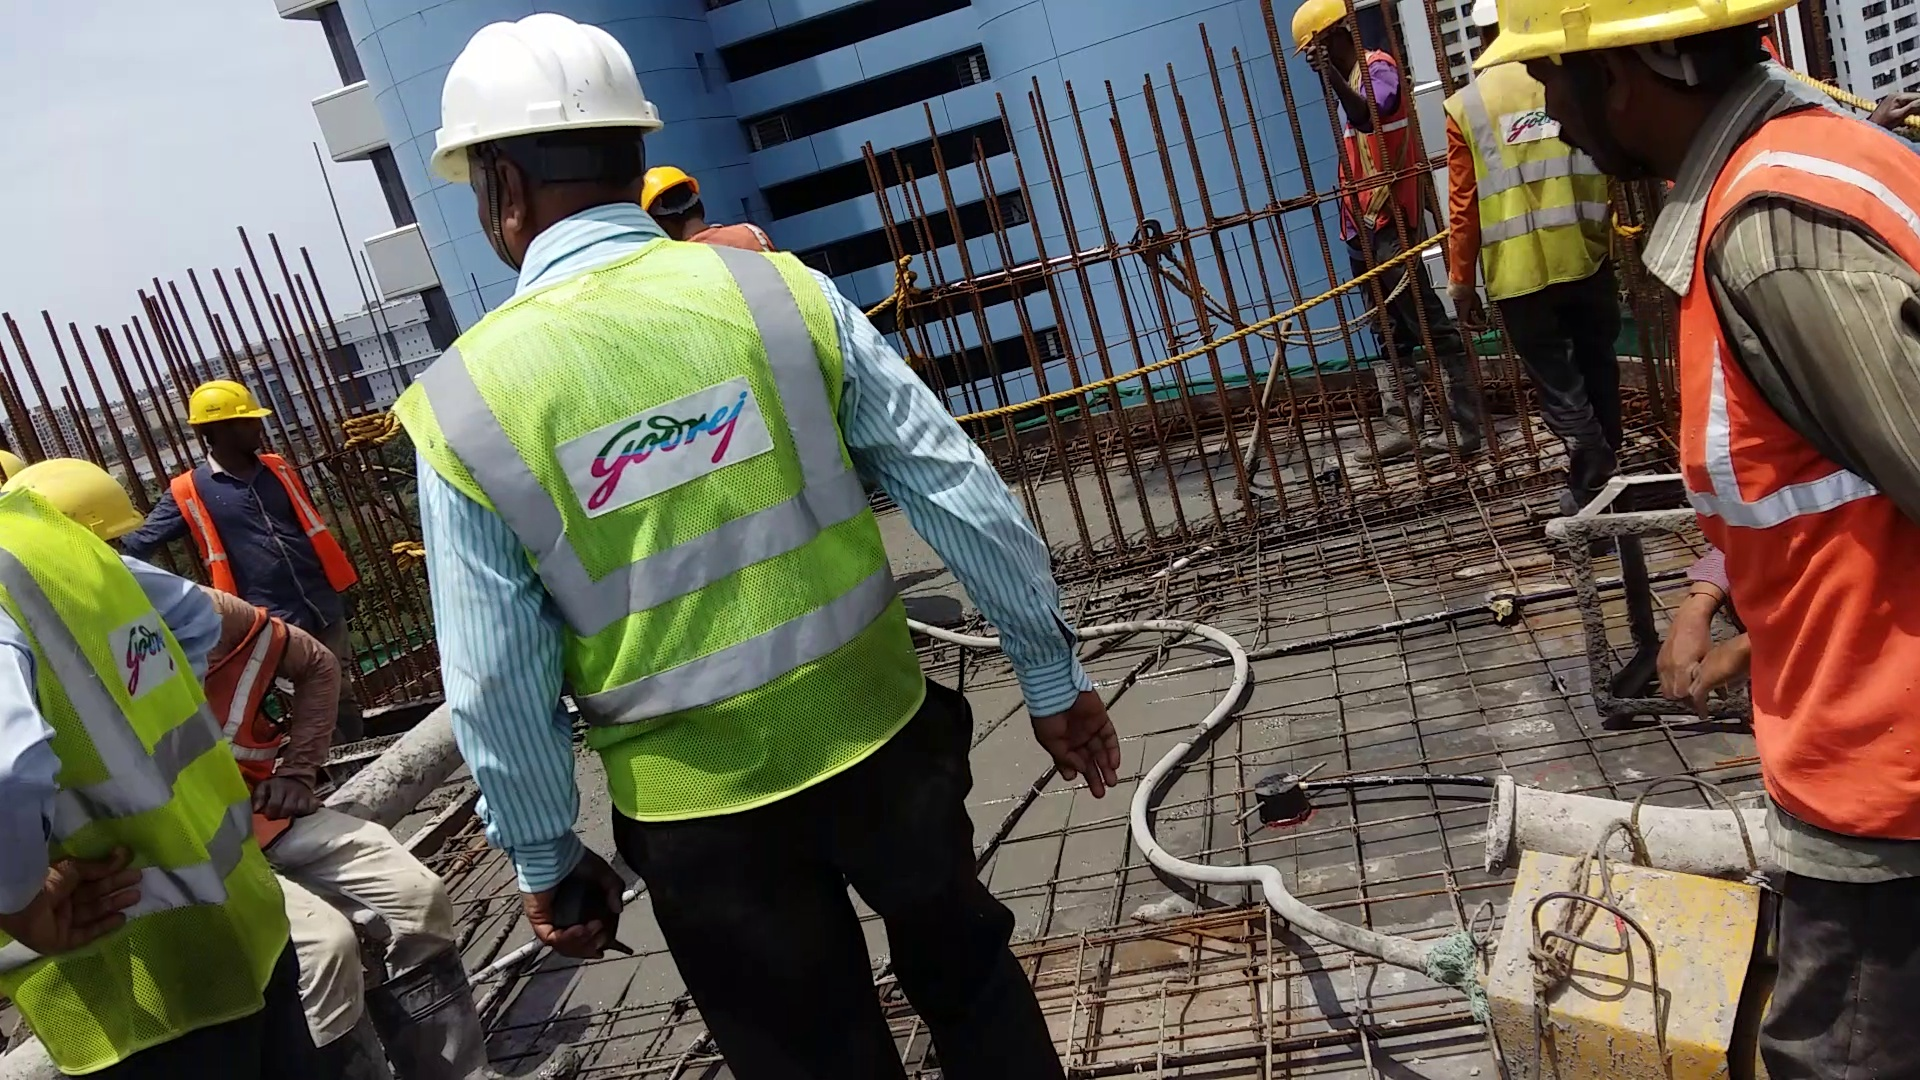SAFE: (392, 16, 843, 822), (1493, 3, 1920, 841), (174, 377, 338, 607)
